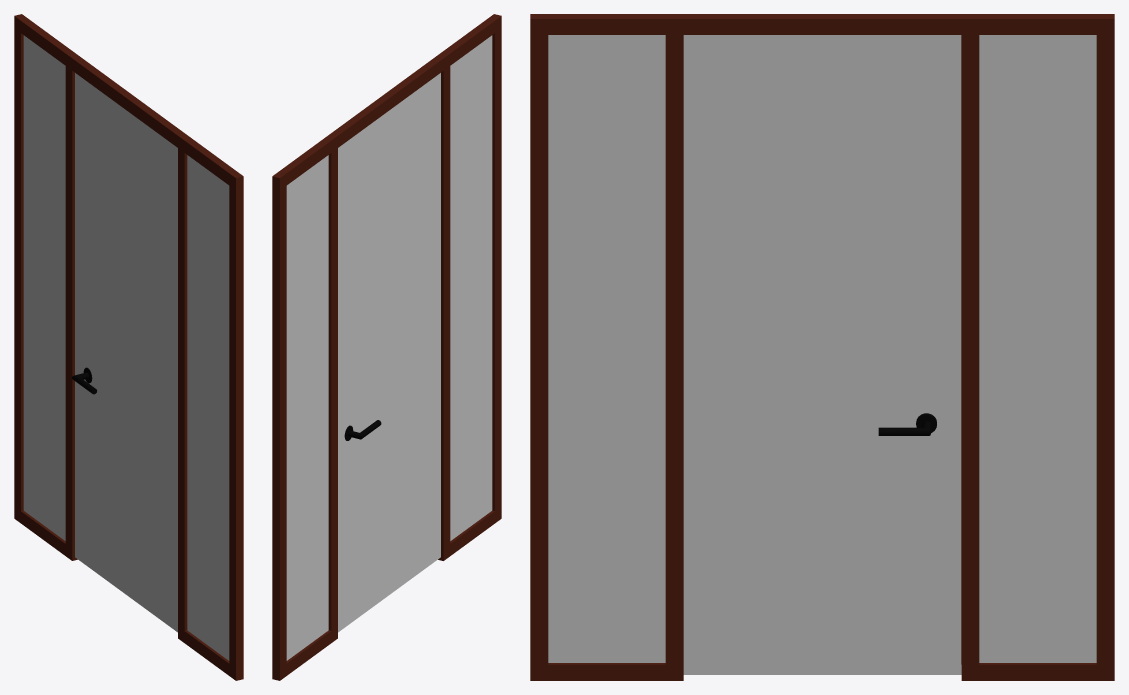
File: GlassFrameDoorB.FBX
The picture shows the model from 3 angles, left to right: view 1: azimuth 30°, elevation 25°; view 2: azimuth 150°, elevation 25°; view 3: azimuth 270°, elevation 25°; orthographic projection. The views are drawn at different scales.
Visible parts, largest first — view 1: Door, Glass, GlassFrameDoorB; view 2: Door, Glass, GlassFrameDoorB; view 3: Door, Glass, GlassFrameDoorB.
Boxes of the visible parts, x1,y1,x2,y2 form: Door: [75, 73, 177, 632]; Glass: [23, 35, 229, 660]; GlassFrameDoorB: [14, 14, 243, 680]; Door: [338, 73, 440, 632]; Glass: [286, 35, 492, 660]; GlassFrameDoorB: [272, 14, 501, 680]; Door: [683, 35, 961, 674]; Glass: [548, 35, 1096, 662]; GlassFrameDoorB: [530, 14, 1114, 680].
Size of the model in its own units: 17.76 by 200 by 250.
